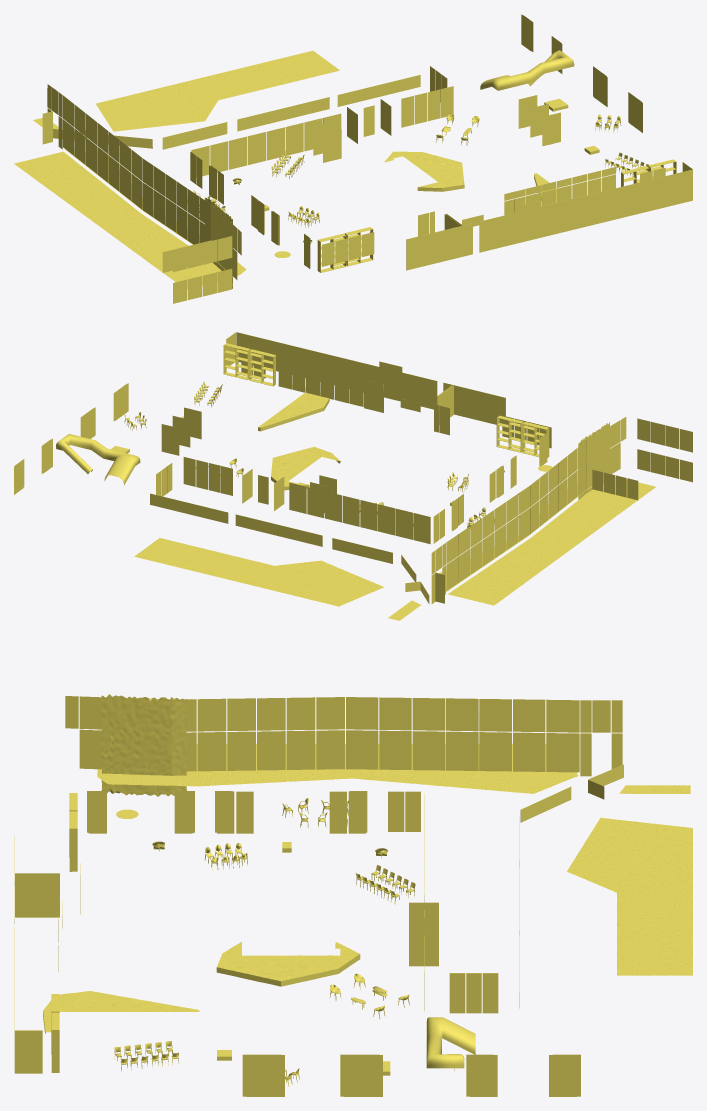
File: 37bd115f-1ee3-452c-acbd-13eb5c62d064.gltf
3 renders of one model, top to bottom at view 1: azimuth 30°, elevation 25°; view 2: azimuth 150°, elevation 25°; view 3: azimuth 270°, elevation 25°, orthographic. The views are drawn at different scales.
Parts seen in each view (by area): view 1: Glass; view 2: Glass; view 3: Glass.
Boxes of the visible parts, x1,y1,x2,y2 form: Glass: [14, 14, 692, 303]; Glass: [14, 332, 692, 620]; Glass: [14, 694, 692, 1096].
Bounding box in the file's own units: 523 × 67.81 × 413.
